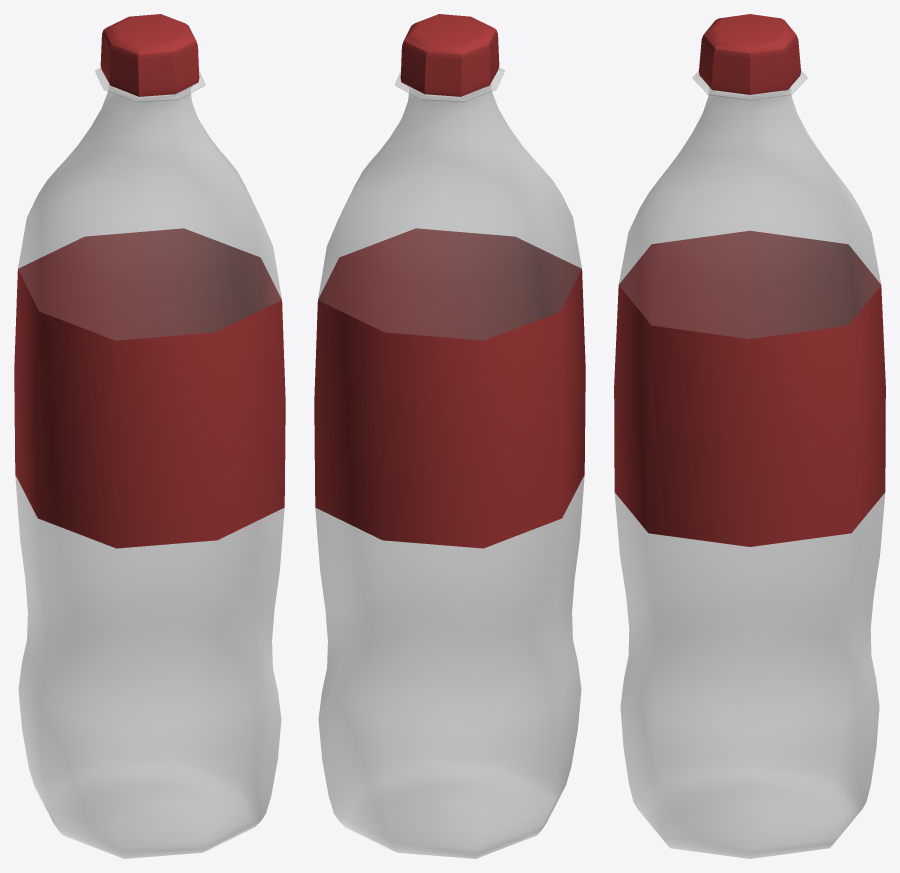
Rendered from NormalRed.fbx.
The picture shows the model from 3 angles, left to right: view 1: azimuth 30°, elevation 25°; view 2: azimuth 150°, elevation 25°; view 3: azimuth 270°, elevation 25°; orthographic projection.
Visible parts, largest first — view 1: pCube3; view 2: pCube3; view 3: pCube3.
Part boxes in pixels (x1,y1,x2,y2): pCube3: (14,14,285,858); pCube3: (314,14,585,858); pCube3: (614,14,885,858).
Bounding box in the file's own units: 3.03 × 10.05 × 3.13.
